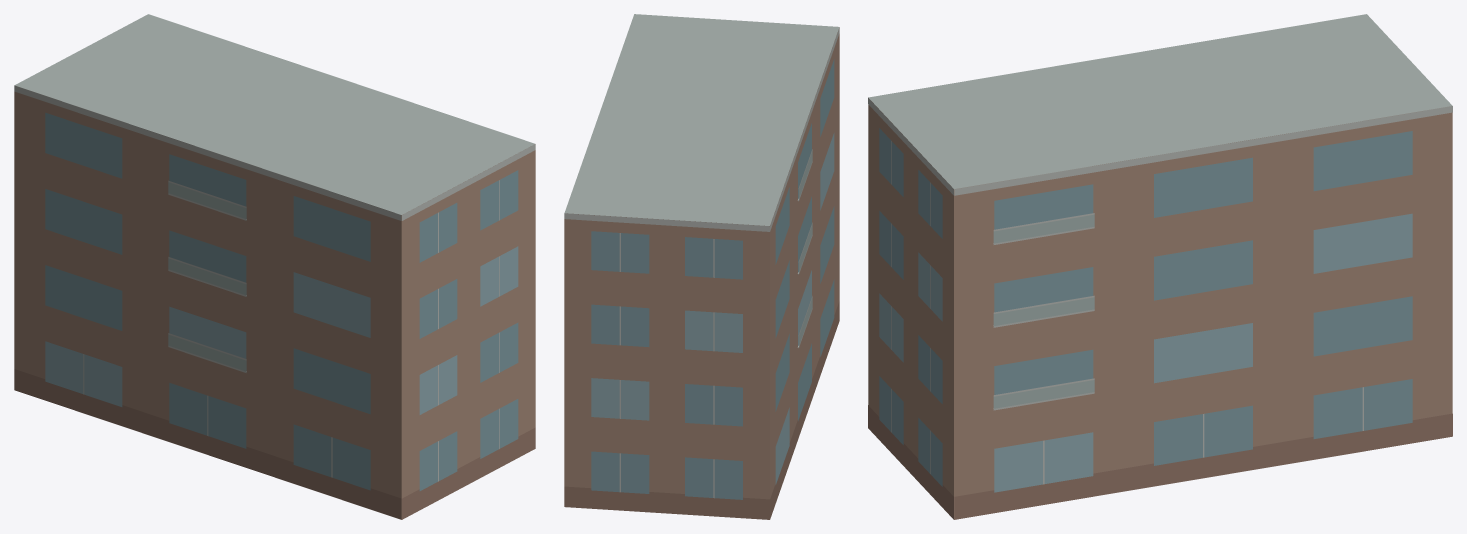
Rendered from residential-0a784218-361a-41ab-8690-7d5f4d6ec0a5.glb.
3 renders of one model, left to right at view 1: azimuth 30°, elevation 25°; view 2: azimuth 150°, elevation 25°; view 3: azimuth 270°, elevation 25°, orthographic. The views are drawn at different scales.
Parts seen in each view (by area): view 1: residential-0a784218-361a-41ab-8690-7d5f4d6ec0a5.tmp; view 2: residential-0a784218-361a-41ab-8690-7d5f4d6ec0a5.tmp; view 3: residential-0a784218-361a-41ab-8690-7d5f4d6ec0a5.tmp.
Part boxes in pixels (x1,y1,x2,y2): residential-0a784218-361a-41ab-8690-7d5f4d6ec0a5.tmp: [14, 14, 535, 519]; residential-0a784218-361a-41ab-8690-7d5f4d6ec0a5.tmp: [564, 14, 839, 519]; residential-0a784218-361a-41ab-8690-7d5f4d6ec0a5.tmp: [868, 14, 1452, 519].
Bounding box in the file's own units: 13.88 × 12.2 × 19.56.
